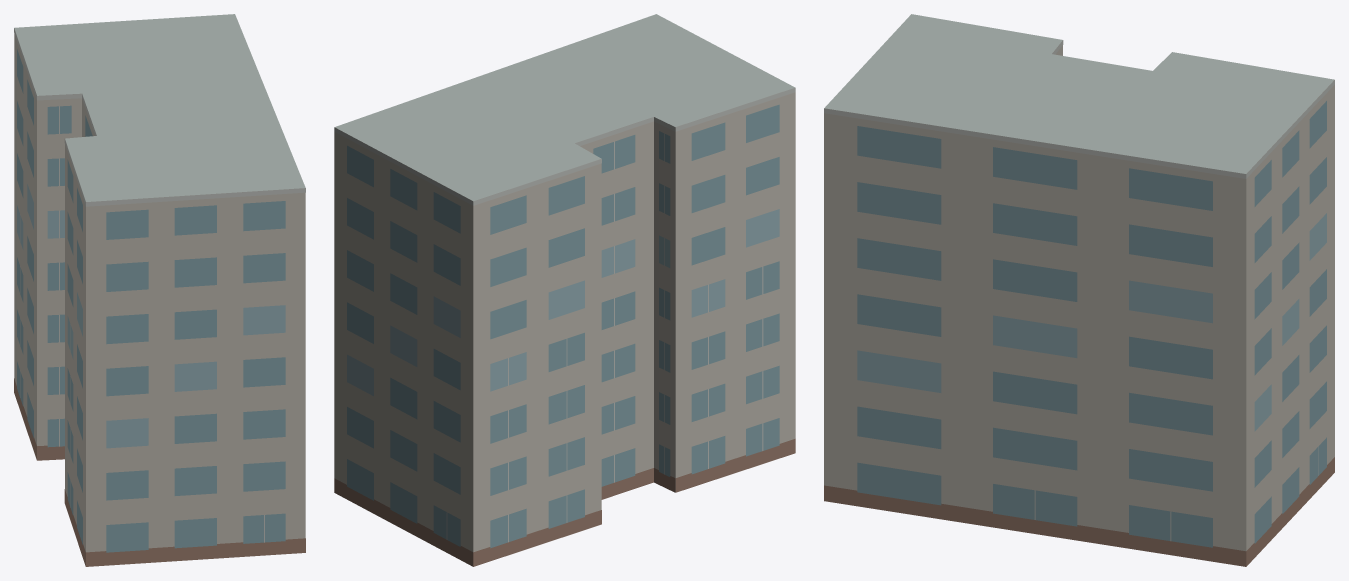
The model's file is survey-upis-32722006.glb.
The picture shows the model from 3 angles, left to right: view 1: azimuth 30°, elevation 25°; view 2: azimuth 150°, elevation 25°; view 3: azimuth 270°, elevation 25°; orthographic projection. The views are drawn at different scales.
Parts seen in each view (by area): view 1: survey-upis-32722006.tmp; view 2: survey-upis-32722006.tmp; view 3: survey-upis-32722006.tmp.
Part boxes in pixels (x1=…): survey-upis-32722006.tmp: x1=14, y1=14, x2=305, y2=566; survey-upis-32722006.tmp: x1=334, y1=14, x2=795, y2=566; survey-upis-32722006.tmp: x1=824, y1=14, x2=1334, y2=566.
Bounding box in the file's own units: 16.96 × 19.4 × 22.87.
